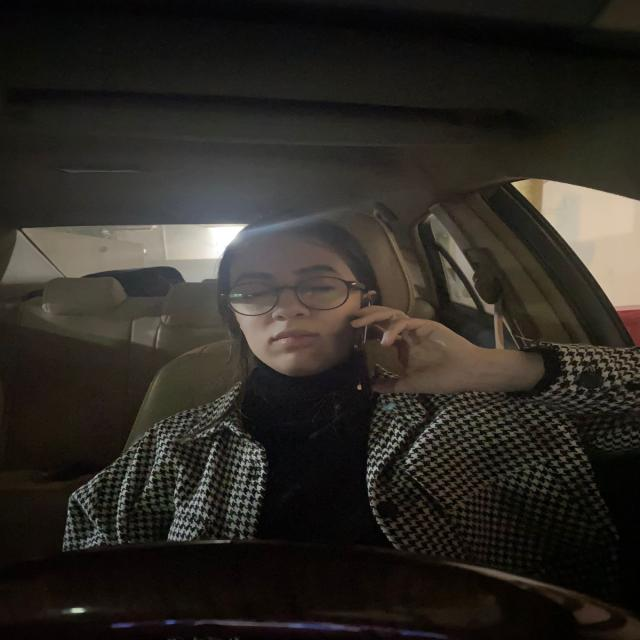mobile: (356, 295, 385, 411)
person: (224, 229, 359, 376)
